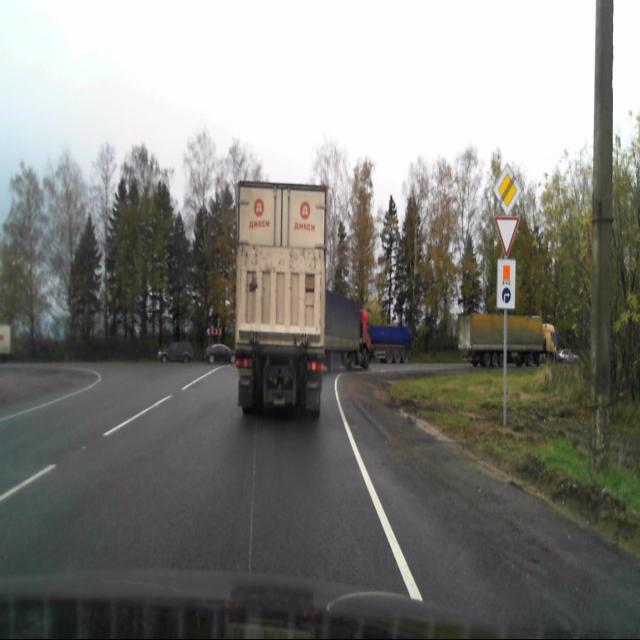road sign: (493, 164, 520, 214), (494, 216, 519, 259), (496, 260, 515, 309)
